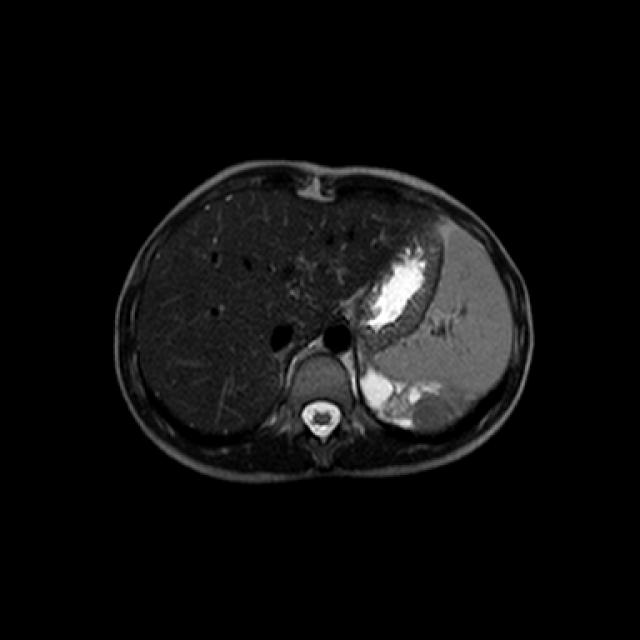sol: (360, 364, 467, 426)
